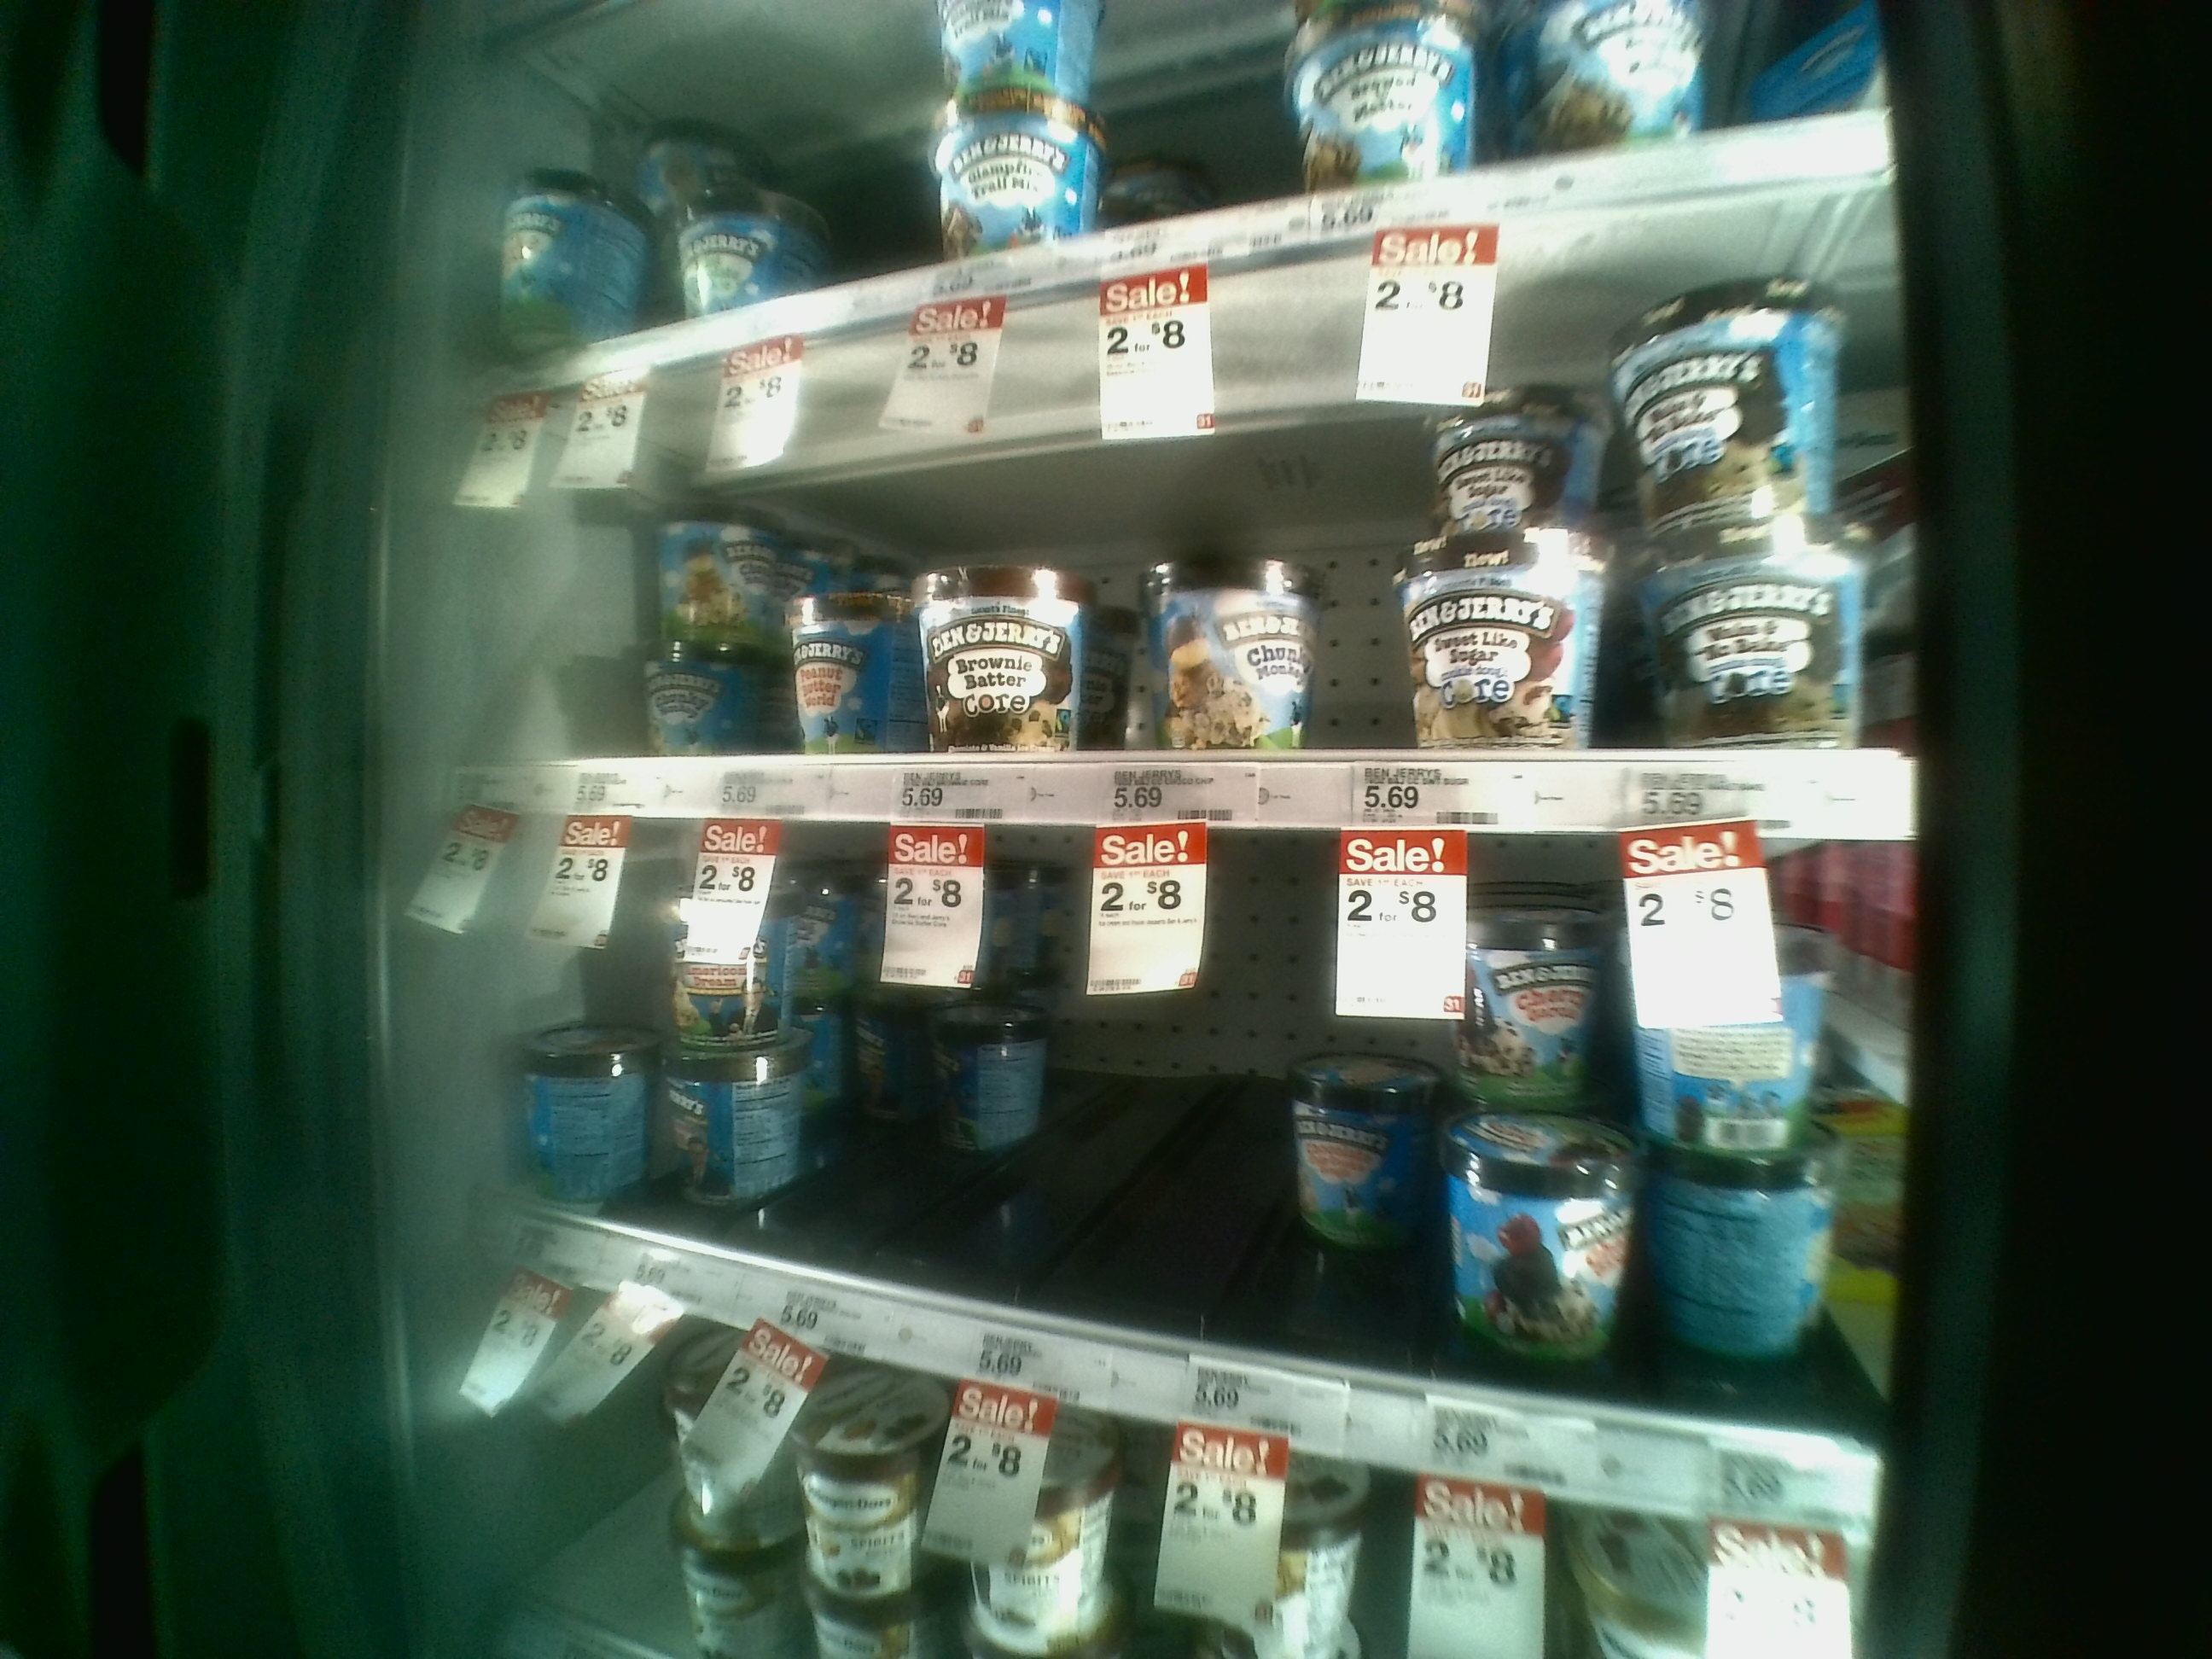shelf: (491, 824, 1900, 1530), (484, 192, 1905, 838)
